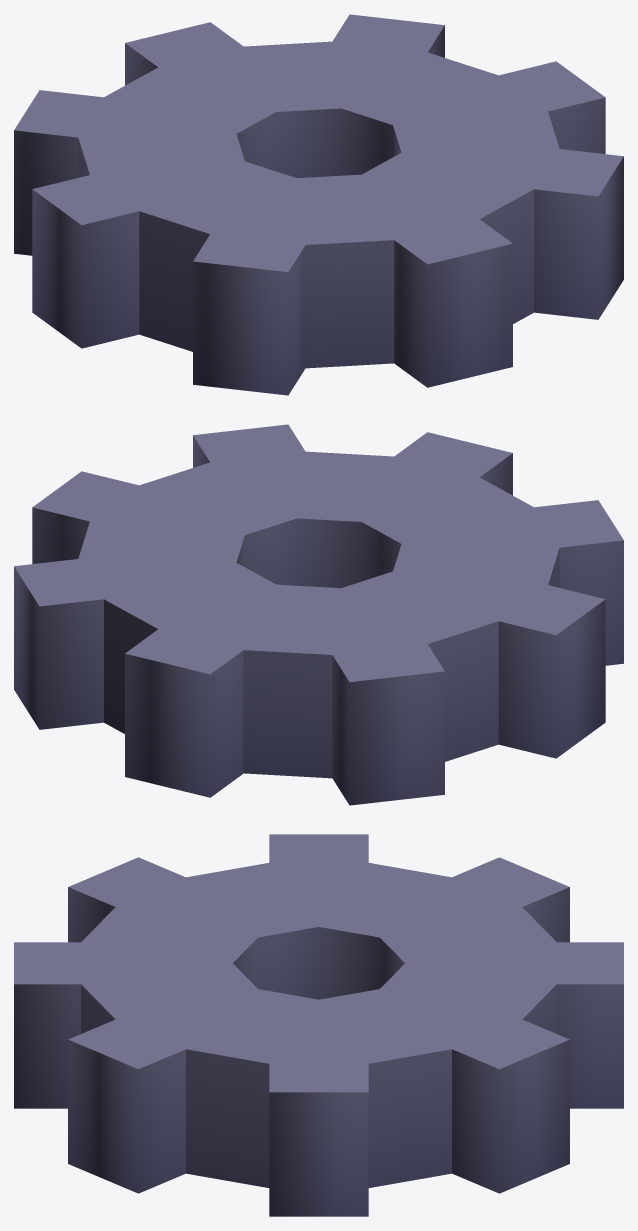
File: cog-a.glb
3 renders of one model, top to bottom at view 1: azimuth 30°, elevation 25°; view 2: azimuth 150°, elevation 25°; view 3: azimuth 270°, elevation 25°, orthographic.
Visible parts, largest first — view 1: cog-a; view 2: cog-a; view 3: cog-a.
Part boxes in pixels (x1,y1,x2,y2): cog-a: [14, 14, 623, 395]; cog-a: [14, 424, 623, 805]; cog-a: [14, 834, 623, 1216].
Size of the model in its own units: 1 by 0.225 by 1.
